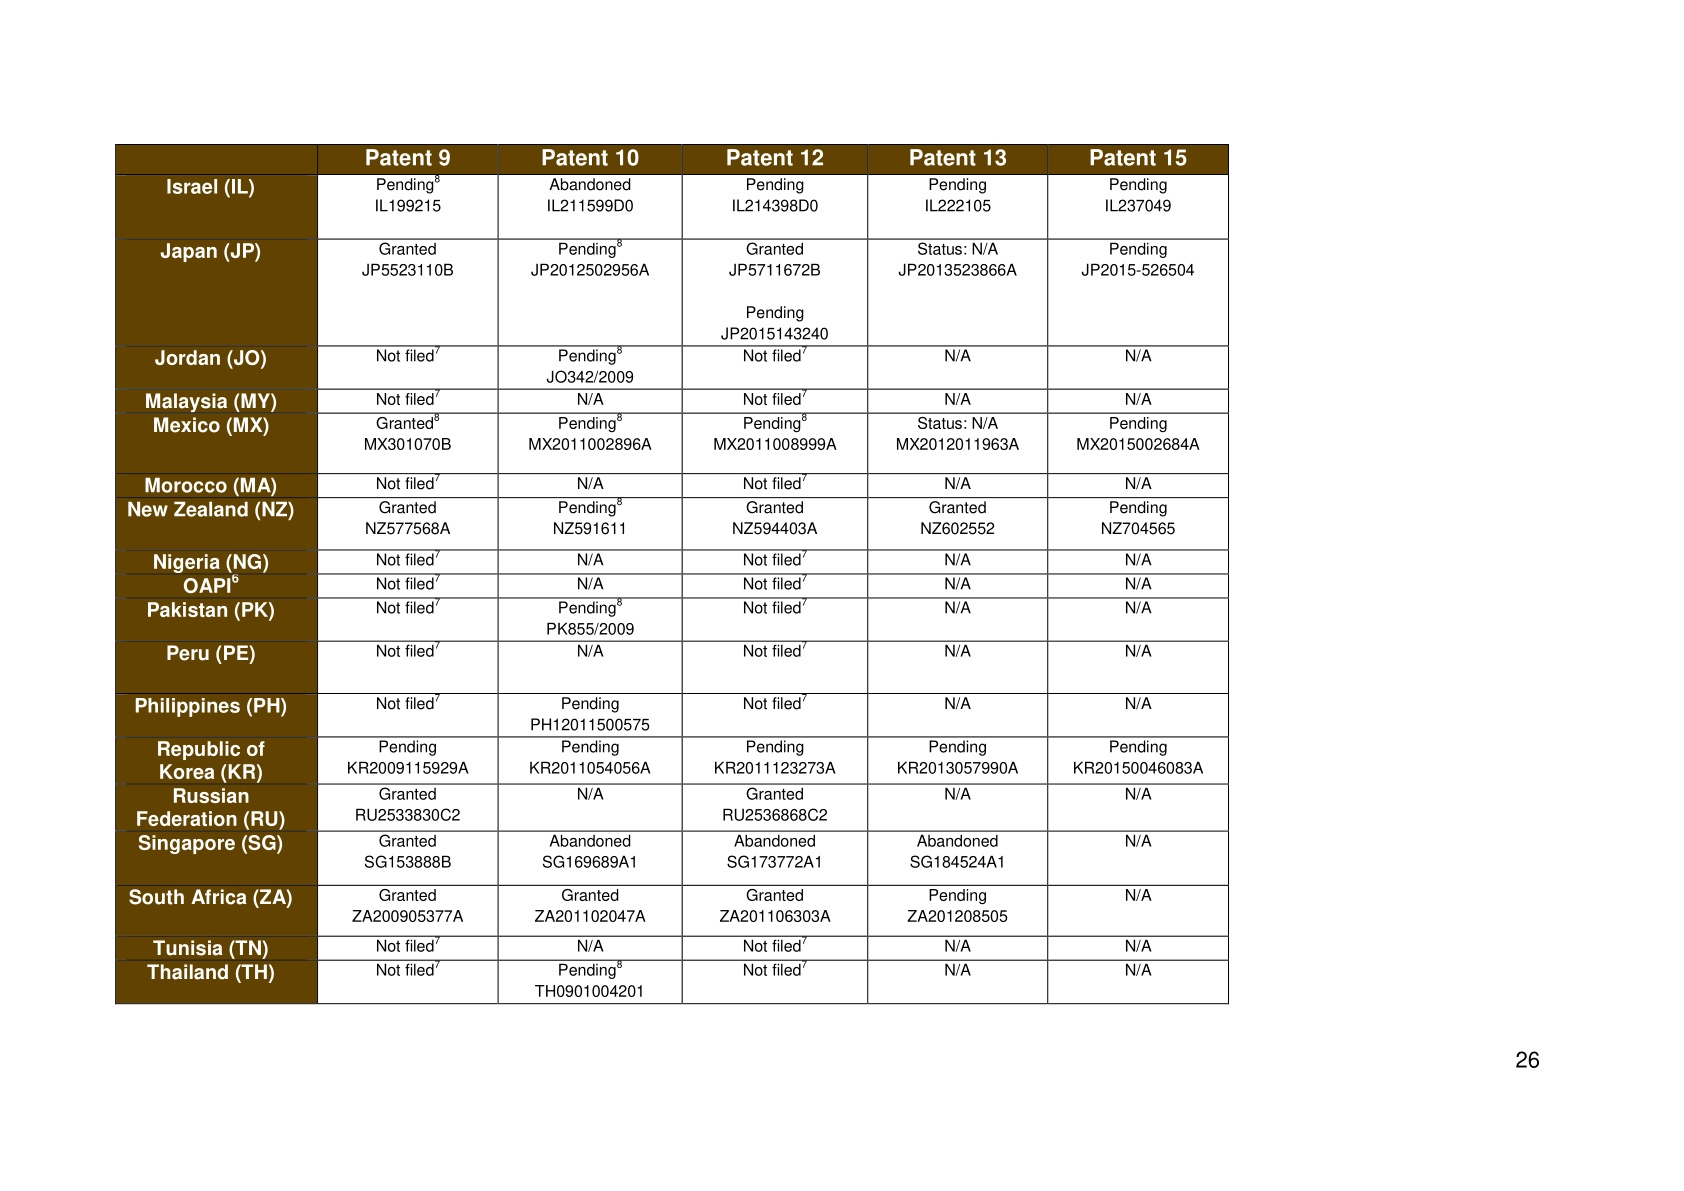full_lined: (115, 144, 1229, 1005)
